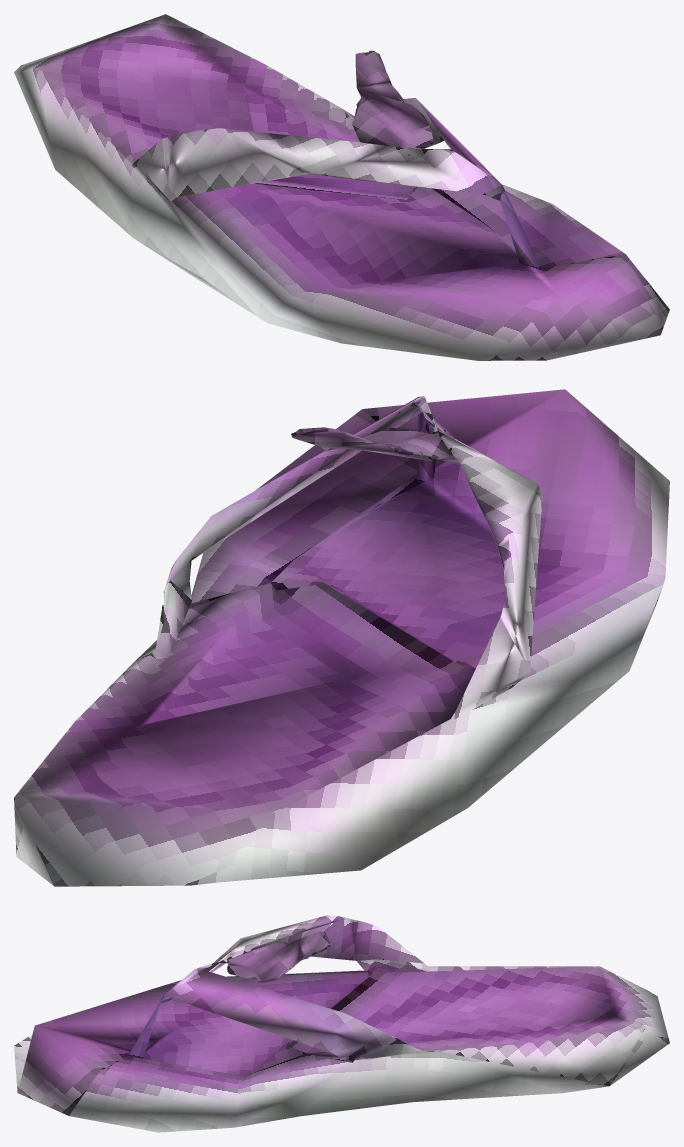
File: Reebok_COMFORT_REEFRESH_FLIP-low.glb
3 renders of one model, top to bottom at view 1: azimuth 30°, elevation 25°; view 2: azimuth 150°, elevation 25°; view 3: azimuth 270°, elevation 25°, orthographic. The views are drawn at different scales.
Parts seen in each view (by area): view 1: Reebok_COMFORT_REEFRESH_FLIP; view 2: Reebok_COMFORT_REEFRESH_FLIP; view 3: Reebok_COMFORT_REEFRESH_FLIP.
Part boxes in pixels (box(x1,y1,x2,y2)): Reebok_COMFORT_REEFRESH_FLIP: box(14, 14, 669, 360); Reebok_COMFORT_REEFRESH_FLIP: box(14, 389, 669, 886); Reebok_COMFORT_REEFRESH_FLIP: box(14, 915, 669, 1132).
Bounding box in the file's own units: 0.1072 × 0.0625 × 0.251.
1 material, 1 textured.
